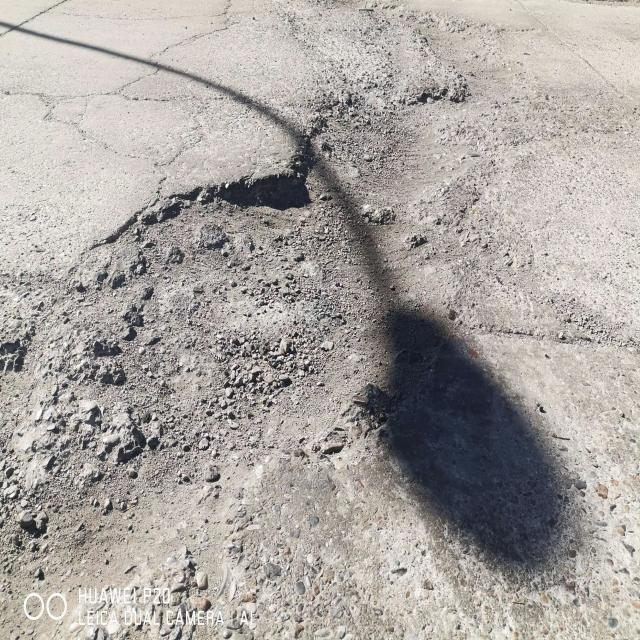Pothole: (0, 11, 538, 640)
